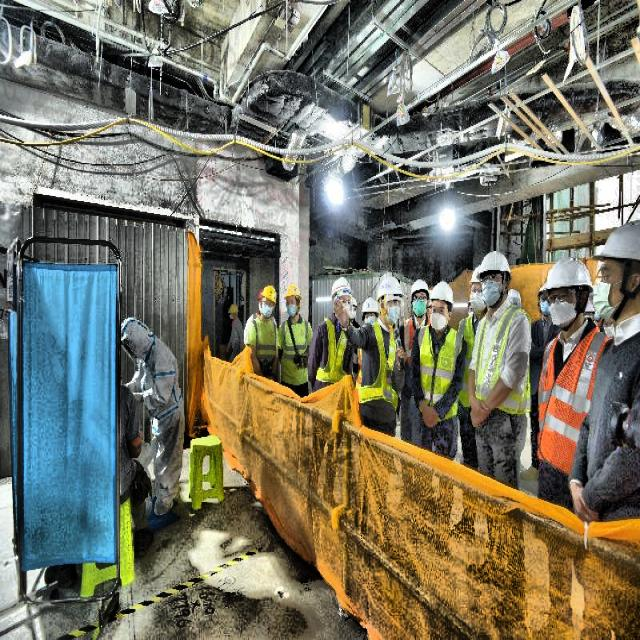safety_helmet: (593, 219, 639, 266), (541, 256, 595, 296), (320, 267, 358, 305), (376, 272, 408, 310), (481, 247, 510, 287), (428, 278, 456, 310), (465, 262, 490, 292), (256, 282, 280, 304), (360, 294, 380, 319), (284, 282, 304, 305), (229, 296, 243, 314)
safety_jacket: (534, 321, 610, 482), (467, 302, 534, 420), (354, 313, 402, 415), (415, 321, 462, 422), (278, 319, 314, 402), (310, 318, 351, 384), (245, 309, 278, 378)
